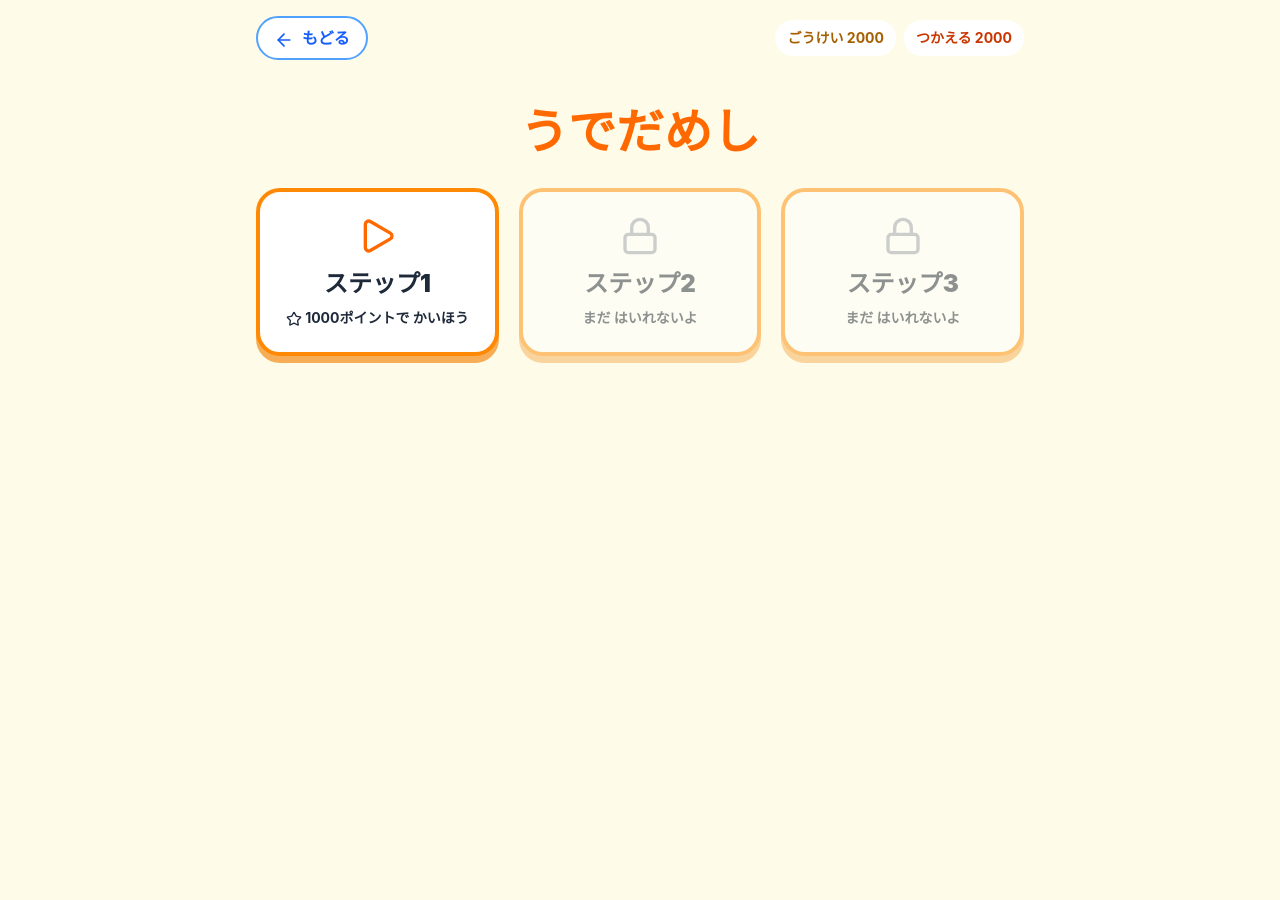
Test case: <AssessmentMenu /> › enables the assessment after every unit is complete and points are sufficient
// ポイント消費前に確認を挟む。押しただけでは始まらない。
Click the button "ステップ1 1000ポイントで かいほう" at (377, 272), box [256,188,499,356]
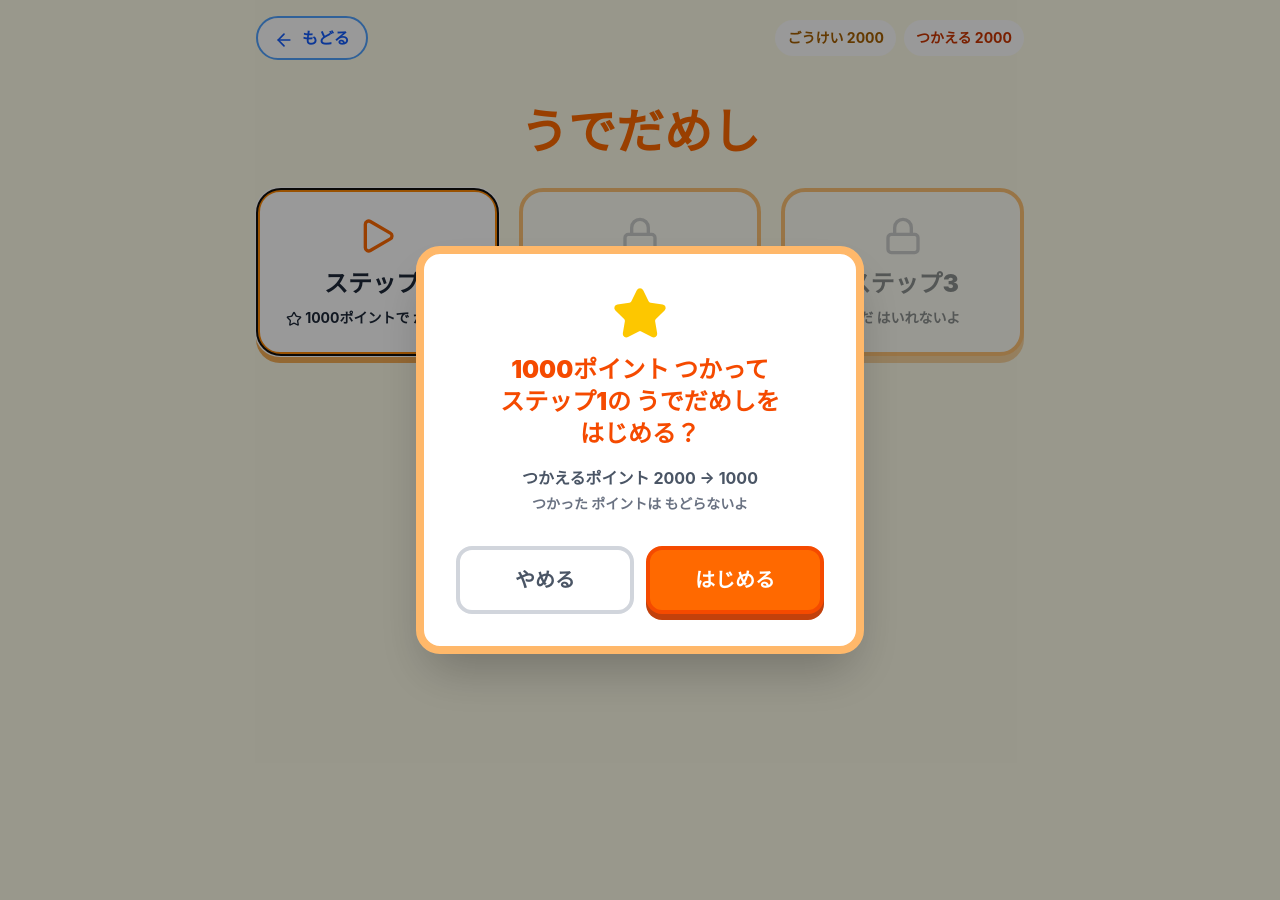
Expected: the dialog shows "1000ポイント つかって"
Expected: the dialog shows "つかえるポイント 2000 → 1000"
Click the button "やめる" at (545, 580), box [456,546,634,614]
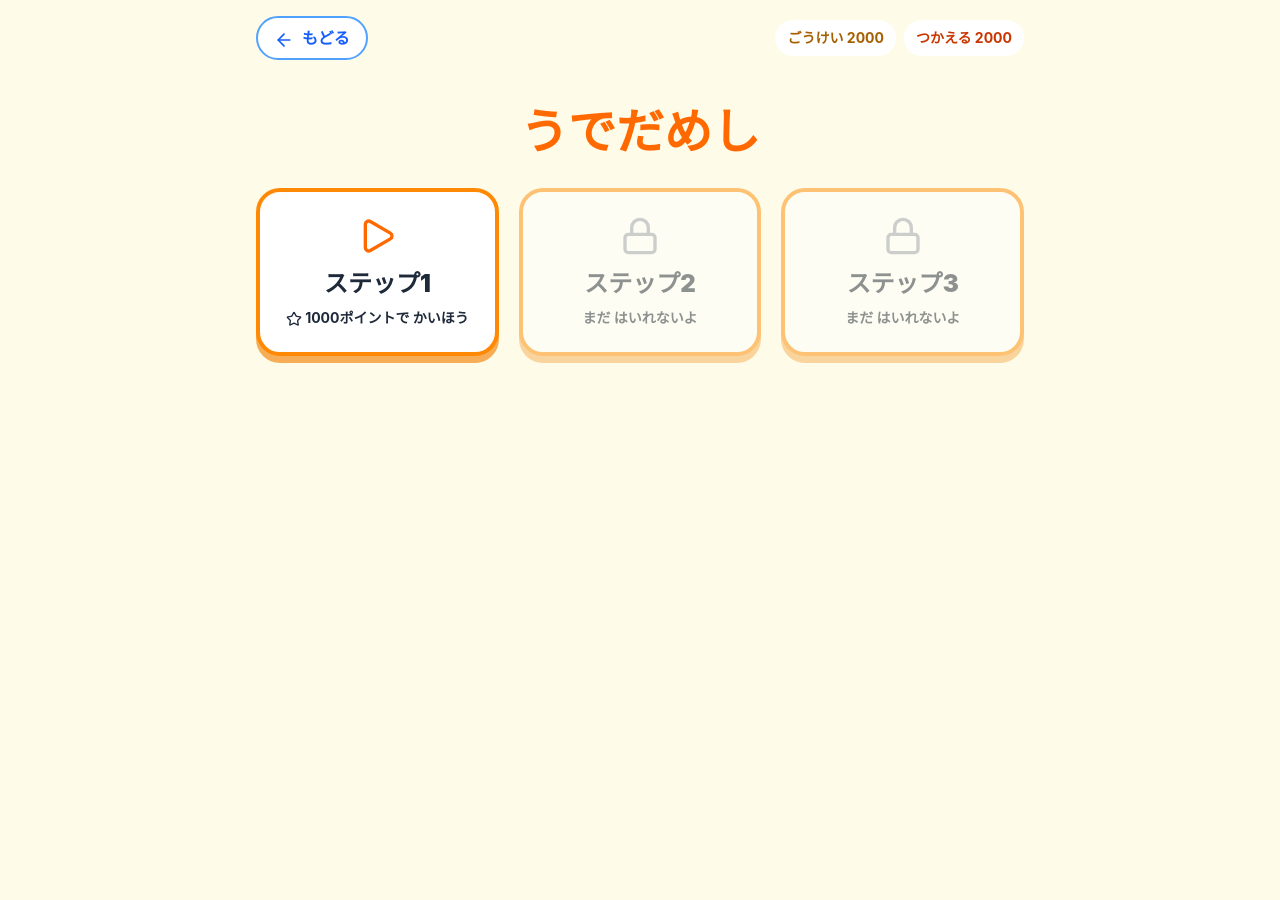
Expected: the dialog is gone
Click the button "ステップ1 1000ポイントで かいほう" at (377, 272), box [256,188,499,356]
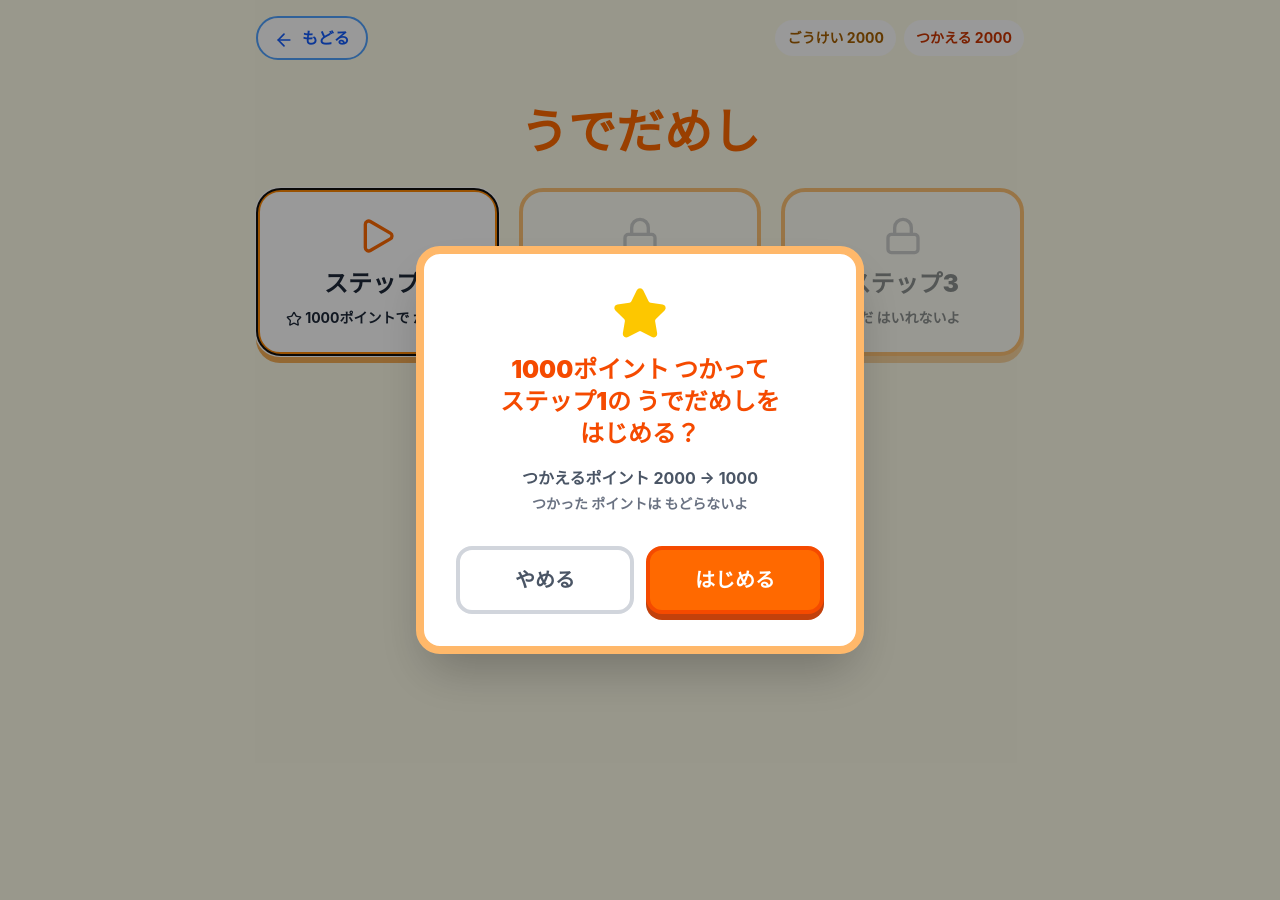
Click the button "はじめる" at (735, 580), box [646,546,824,614]
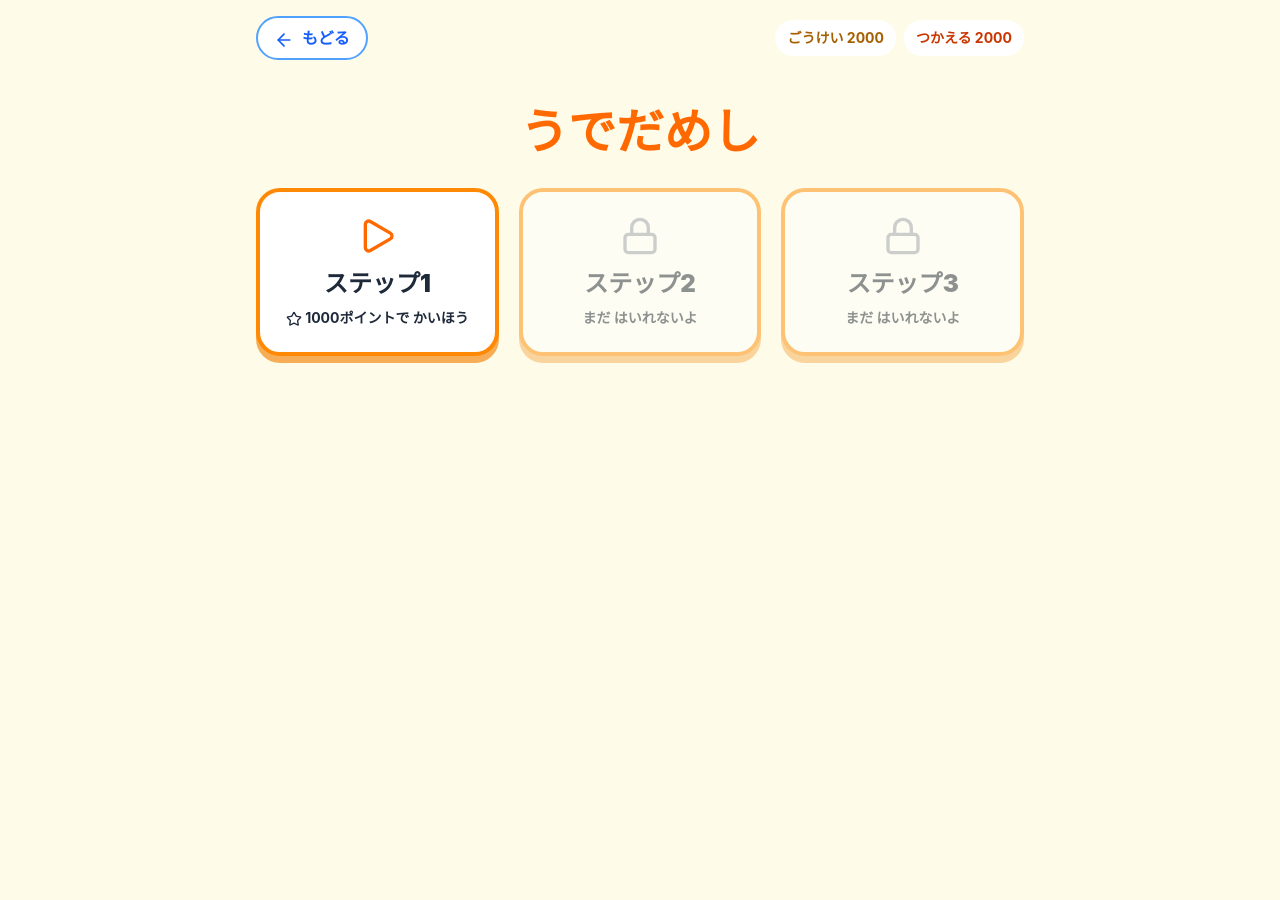
Expected: the dialog is gone
